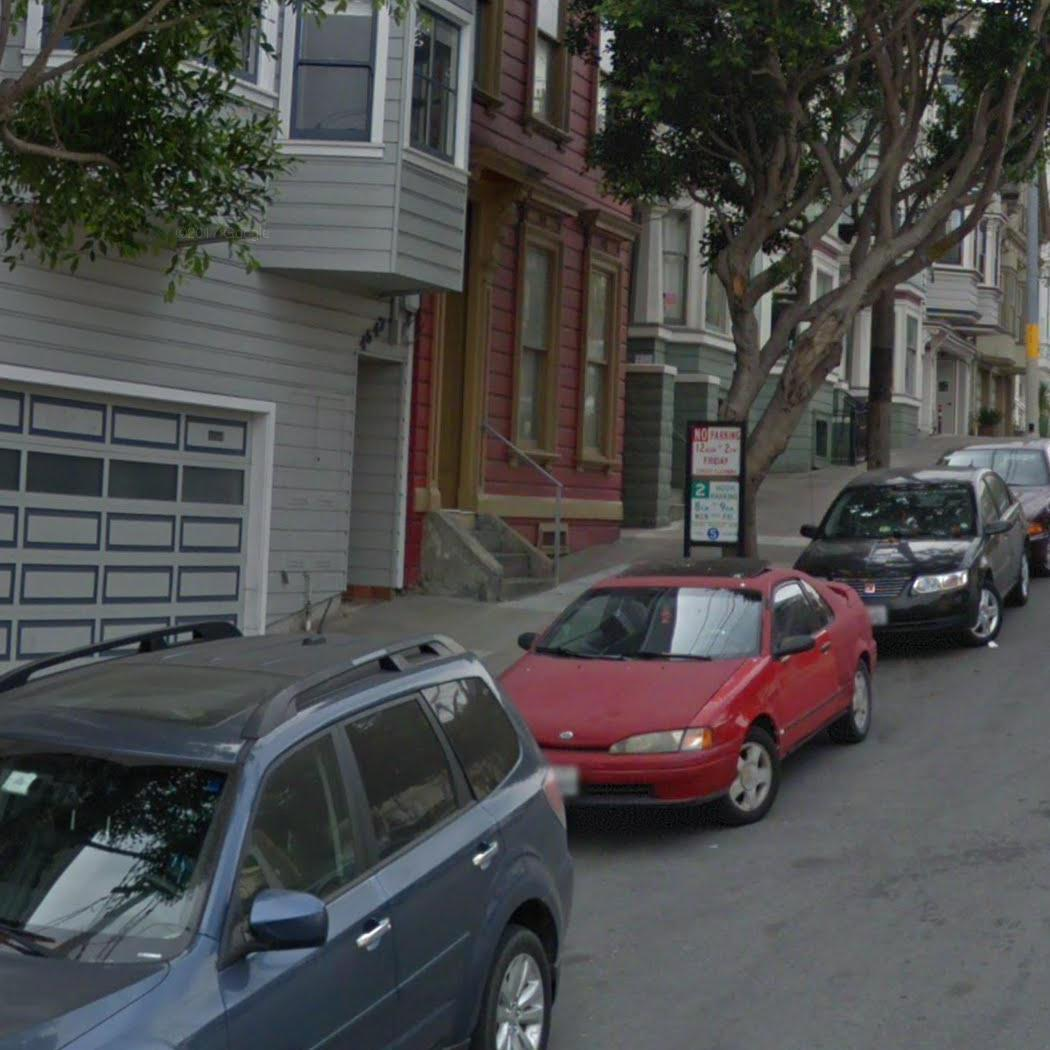2 Hour Parking: (687, 479, 742, 544)
No Parking: (691, 425, 743, 478)
